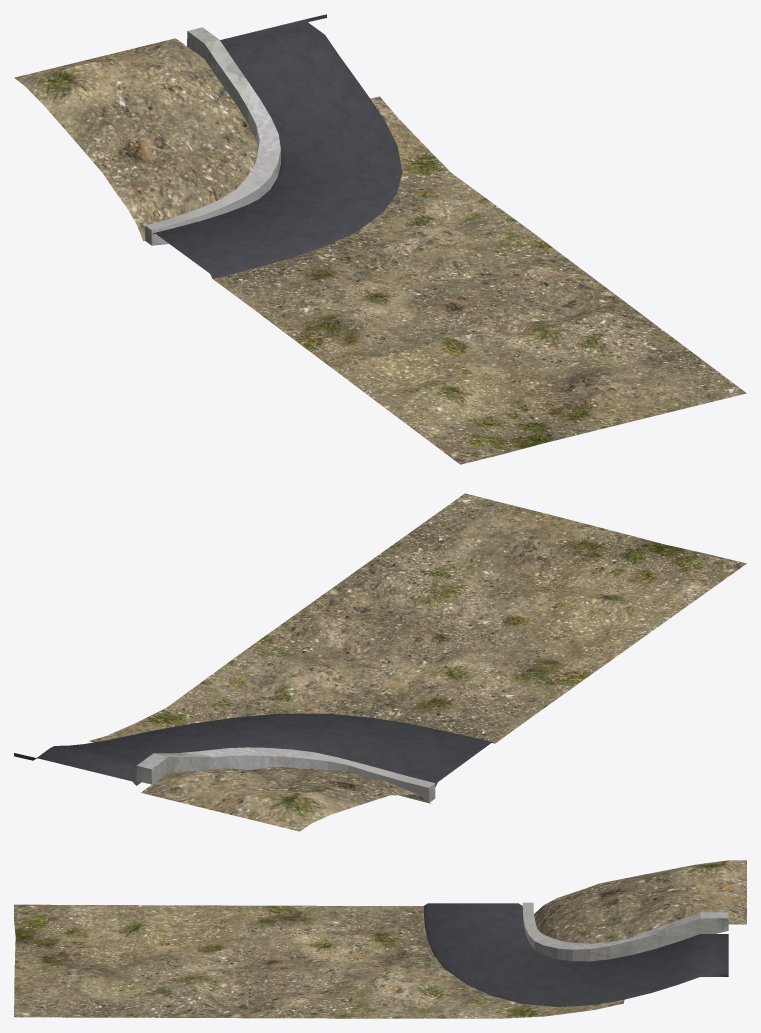
Rendered from grassy_road_curved.glb.
3 renders of one model, top to bottom at view 1: azimuth 30°, elevation 25°; view 2: azimuth 150°, elevation 25°; view 3: azimuth 270°, elevation 25°, orthographic. The views are drawn at different scales.
Visible parts, largest first — view 1: road.003, road.050, road.004, road.002; view 2: road.003, road.050, road.004, road.002; view 3: road.003, road.050, road.004, road.002.
Boxes of the visible parts, bbox=[...] form: road.003: bbox=[213, 96, 746, 464]; road.050: bbox=[152, 14, 402, 278]; road.004: bbox=[14, 38, 258, 241]; road.002: bbox=[145, 27, 280, 245]; road.003: bbox=[89, 493, 746, 743]; road.050: bbox=[14, 713, 494, 786]; road.004: bbox=[141, 767, 430, 831]; road.002: bbox=[136, 747, 435, 802]; road.003: bbox=[14, 904, 624, 1018]; road.050: bbox=[423, 903, 728, 1007]; road.004: bbox=[534, 860, 746, 943]; road.002: bbox=[522, 902, 728, 961].
Bounding box in the file's own units: 12.15 × 3.28 × 31.
Materials: 3 (3 with a texture image).
